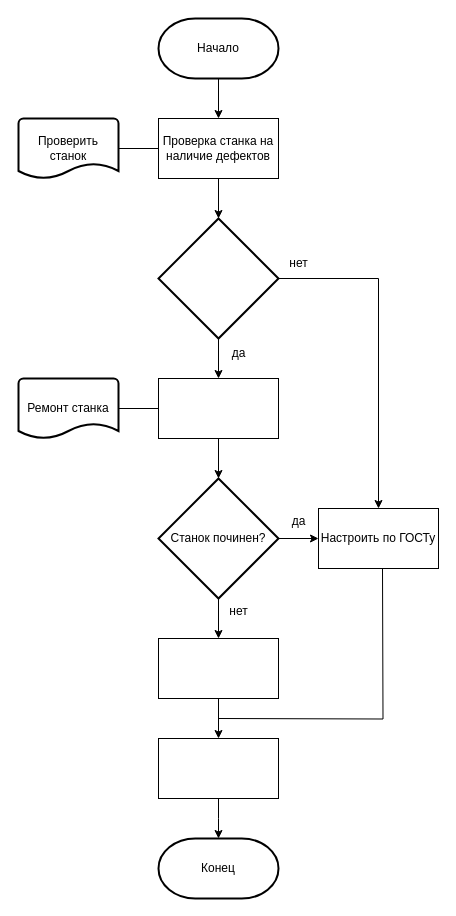
The diagram is 456 pixels wide and 916 high, and some of its shapes have lost their labels. Here are the shapes that lost their labels. From the top down, the box of each, then its label:
(157, 217, 279, 339): Имеет ли дефект?
(158, 378, 278, 438): Починить станок
(158, 638, 278, 698): Устранить проблему
(158, 738, 278, 798): Запустить станок
